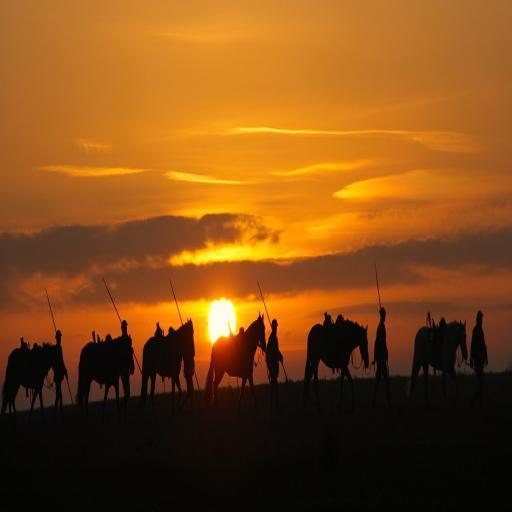horse: (202, 306, 266, 401), (74, 334, 136, 407), (141, 316, 195, 398), (1, 344, 58, 418), (303, 318, 368, 382), (410, 319, 468, 379)
